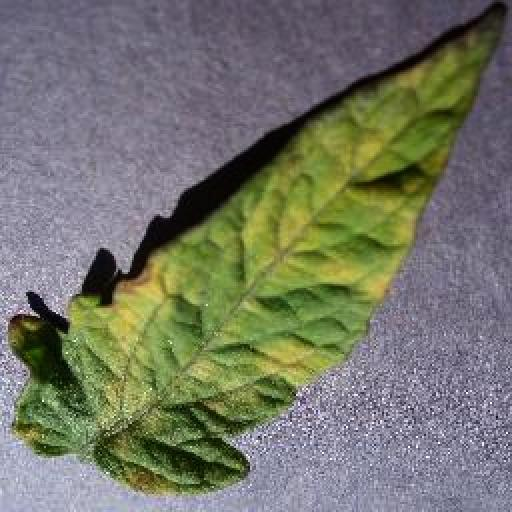disease_tomato: (8, 2, 512, 494)
